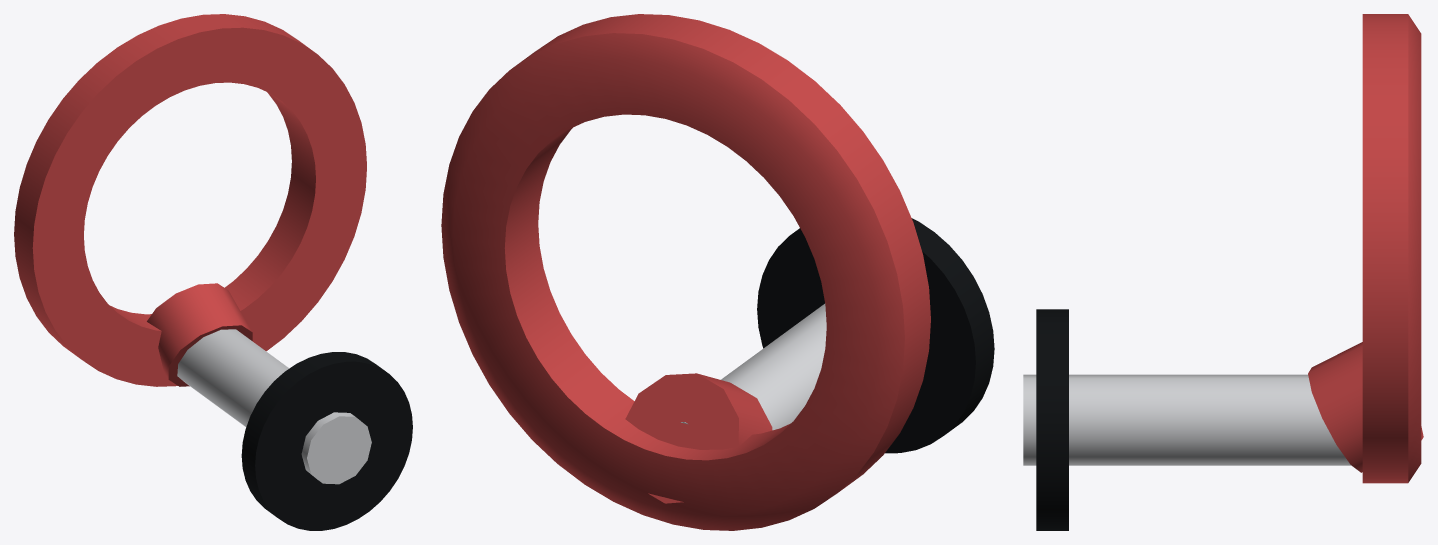
Rendered from DT31_rear_tow_eye.glb.
3 views of the same model, side by side, from view 1: azimuth 30°, elevation 25°; view 2: azimuth 150°, elevation 25°; view 3: azimuth 270°, elevation 25° (orthographic). The views are drawn at different scales.
Visible parts, largest first — view 1: MOD_ND_DT31_eye, MOD_ND_DT31_socket, MOD_ND_DT31_shaft, MOD_ND_DT31_neck; view 2: MOD_ND_DT31_eye, MOD_ND_DT31_socket, MOD_ND_DT31_neck, MOD_ND_DT31_shaft; view 3: MOD_ND_DT31_eye, MOD_ND_DT31_shaft, MOD_ND_DT31_socket, MOD_ND_DT31_neck.
Boxes of the visible parts, left/top/right/bottom form: MOD_ND_DT31_eye: left=14, top=14, right=366, bottom=386; MOD_ND_DT31_socket: left=241, top=352, right=412, bottom=530; MOD_ND_DT31_shaft: left=177, top=329, right=371, bottom=484; MOD_ND_DT31_neck: left=147, top=283, right=252, bottom=386; MOD_ND_DT31_eye: left=441, top=14, right=930, bottom=530; MOD_ND_DT31_socket: left=757, top=218, right=994, bottom=453; MOD_ND_DT31_neck: left=625, top=373, right=772, bottom=503; MOD_ND_DT31_shaft: left=680, top=303, right=826, bottom=430; MOD_ND_DT31_eye: left=1362, top=14, right=1421, bottom=483; MOD_ND_DT31_shaft: left=1023, top=374, right=1351, bottom=465; MOD_ND_DT31_socket: left=1036, top=309, right=1068, bottom=530; MOD_ND_DT31_neck: left=1308, top=342, right=1423, bottom=472.
Size of the model in its own units: 0.072 by 0.082 by 0.0614.
